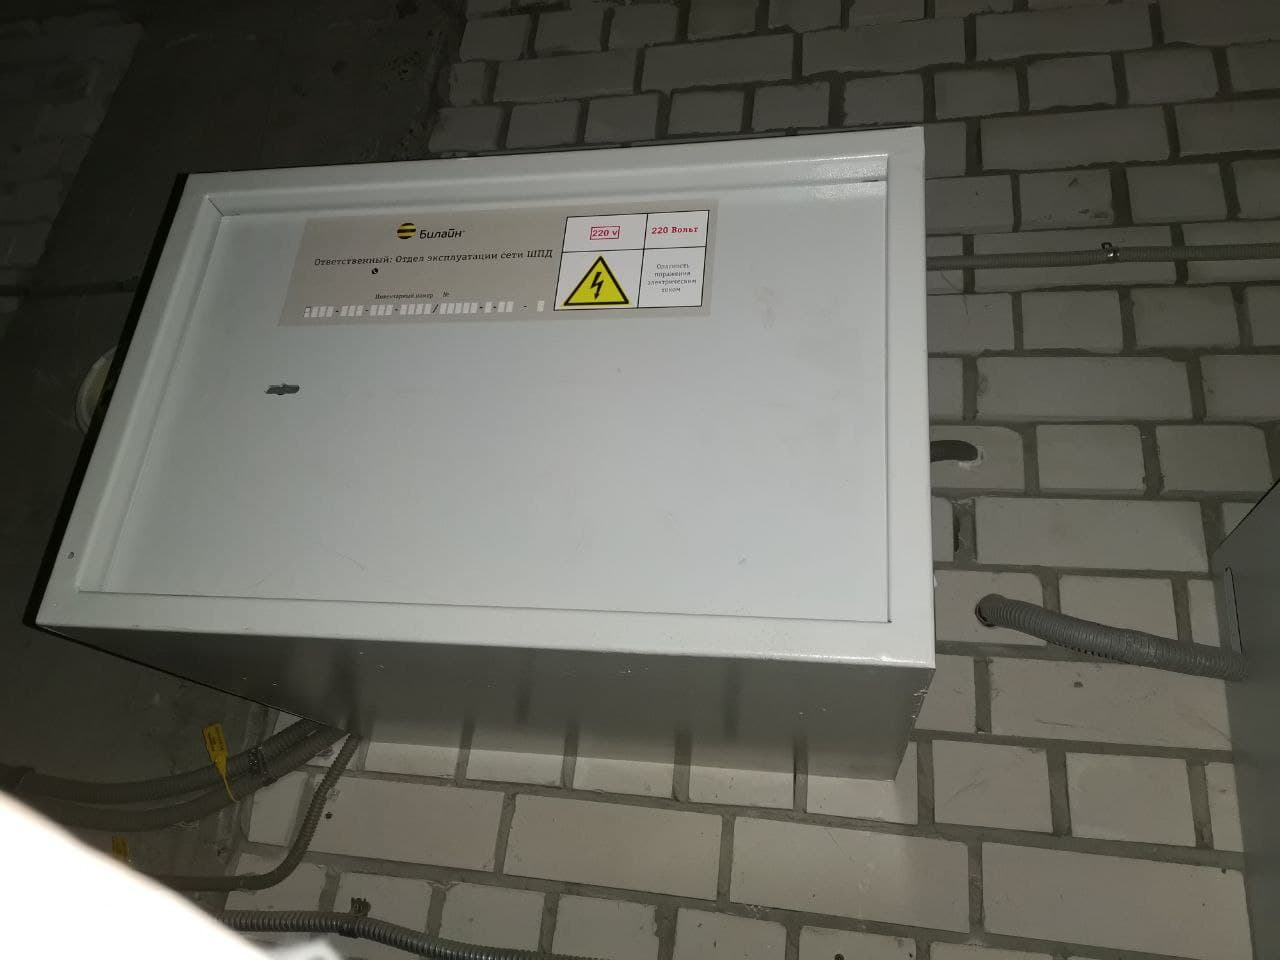shta-7m: (27, 117, 956, 793)
